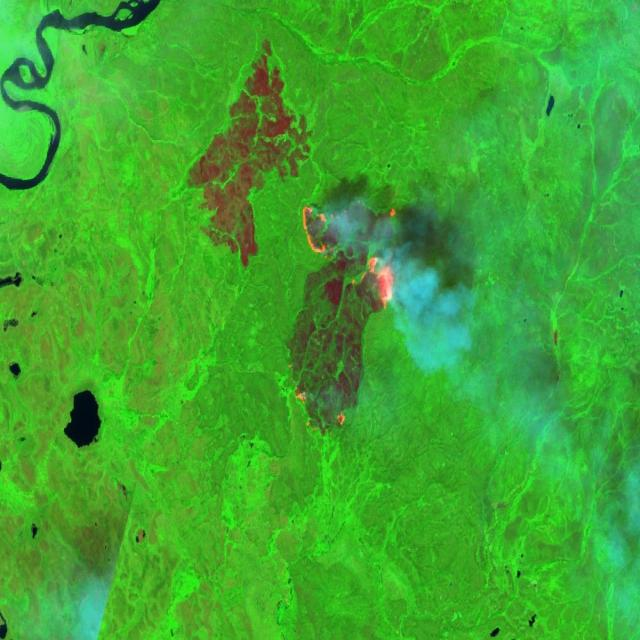fire: (297, 192, 400, 333)
